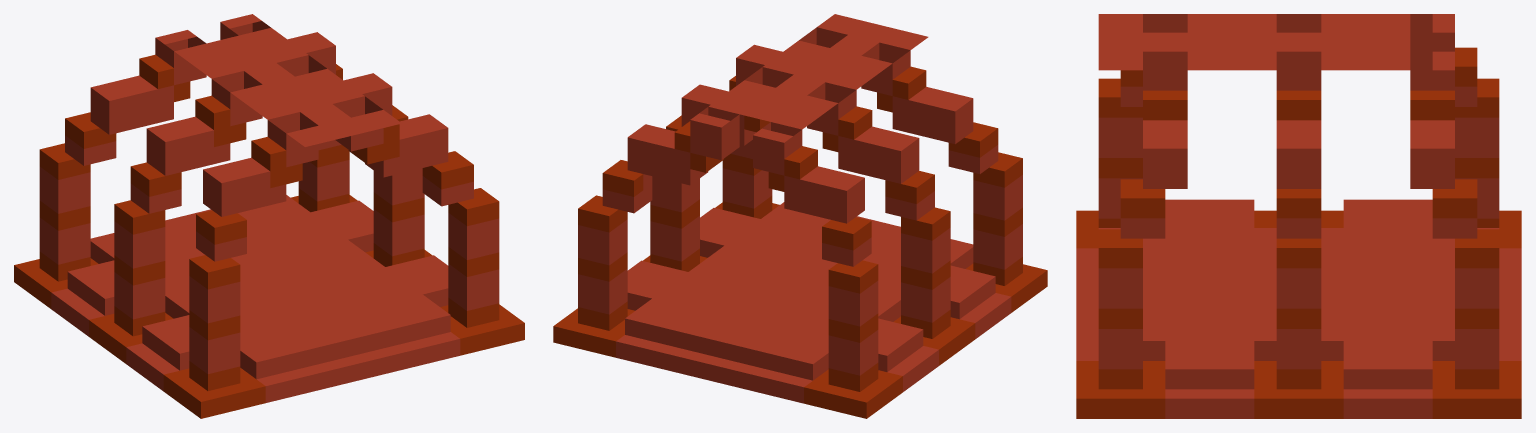
Rendered from iron2_hid_body.fbx.
The picture shows the model from 3 angles, left to right: view 1: azimuth 30°, elevation 25°; view 2: azimuth 150°, elevation 25°; view 3: azimuth 270°, elevation 25°; orthographic projection. The views are drawn at different scales.
Visible parts, largest first — view 1: iron2_hid_body; view 2: iron2_hid_body; view 3: iron2_hid_body.
Boxes of the visible parts, box(x1,y1,x2,y2) form: iron2_hid_body: box(14, 14, 524, 418); iron2_hid_body: box(553, 14, 1047, 418); iron2_hid_body: box(1076, 14, 1521, 418).
Bounding box in the file's own units: 200 × 140 × 200.
